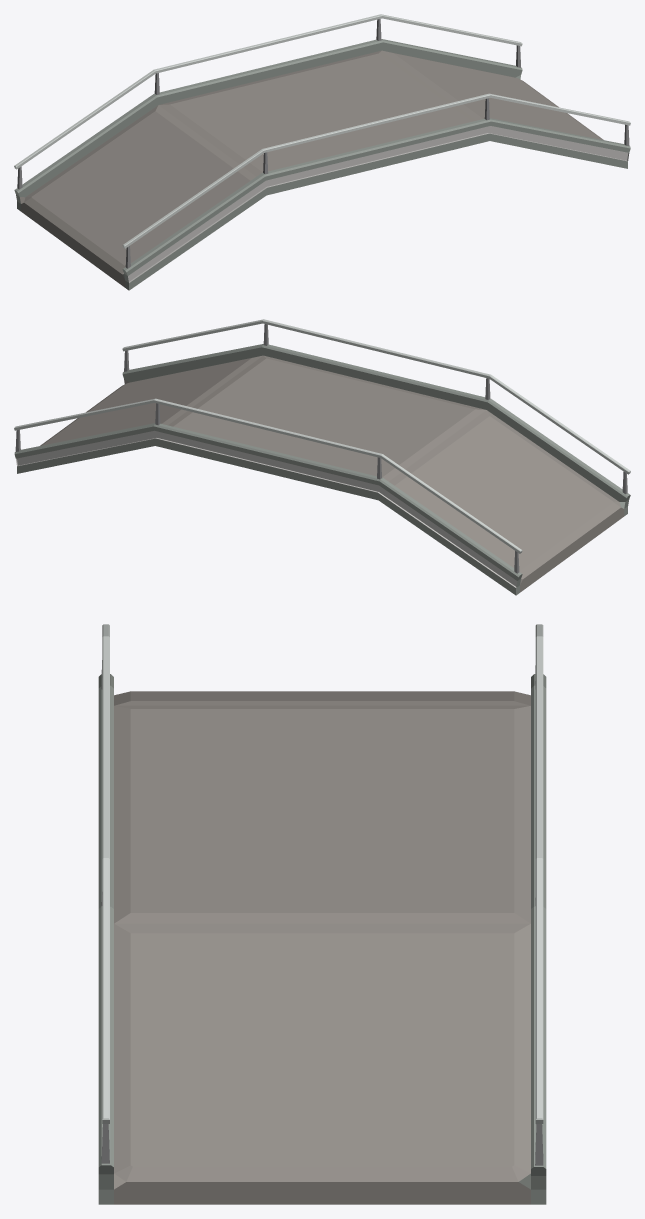
File: Bridge_06.glb
3 views of the same model, one above another, from view 1: azimuth 30°, elevation 25°; view 2: azimuth 150°, elevation 25°; view 3: azimuth 270°, elevation 25° (orthographic). The views are drawn at different scales.
Parts seen in each view (by area): view 1: Bridge_06; view 2: Bridge_06; view 3: Bridge_06.
Boxes of the visible parts, x1,y1,x2,y2 form: Bridge_06: (14, 14, 630, 290); Bridge_06: (14, 319, 630, 595); Bridge_06: (98, 624, 546, 1204).
Size of what is drawn, in the model's own units: 6.06 by 1.22 by 2.32.
1 material, 1 textured.
